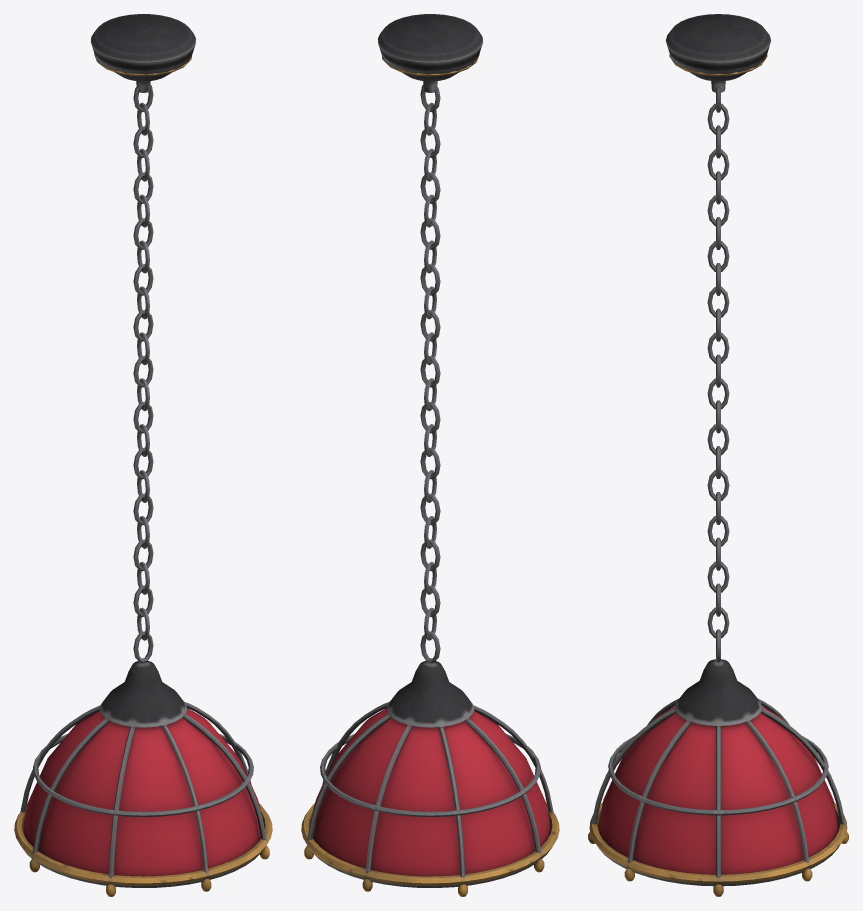
The model's file is PendantLamp.fbx.
3 views of the same model, side by side, from view 1: azimuth 30°, elevation 25°; view 2: azimuth 150°, elevation 25°; view 3: azimuth 270°, elevation 25° (orthographic).
Visible parts, largest first — view 1: PendantLamp_Glass, PendantLamp_Main; view 2: PendantLamp_Glass, PendantLamp_Main; view 3: PendantLamp_Glass, PendantLamp_Main.
Part boxes in pixels (box(x1,y1,x2,y2)): PendantLamp_Glass: box(23, 708, 261, 876); PendantLamp_Main: box(14, 14, 272, 896); PendantLamp_Glass: box(312, 708, 550, 876); PendantLamp_Main: box(301, 14, 559, 896); PendantLamp_Glass: box(598, 706, 838, 874); PendantLamp_Main: box(588, 14, 848, 896).
Size of the model in its own units: 119 by 407 by 119.
